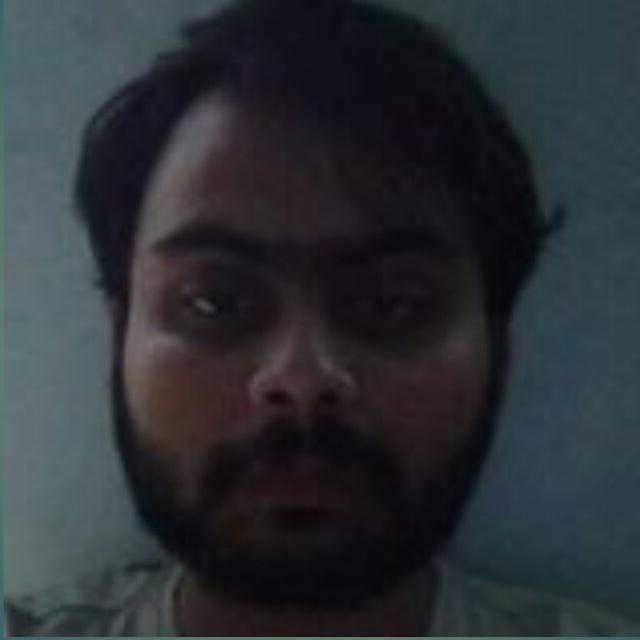Natural: (82, 60, 481, 597)
